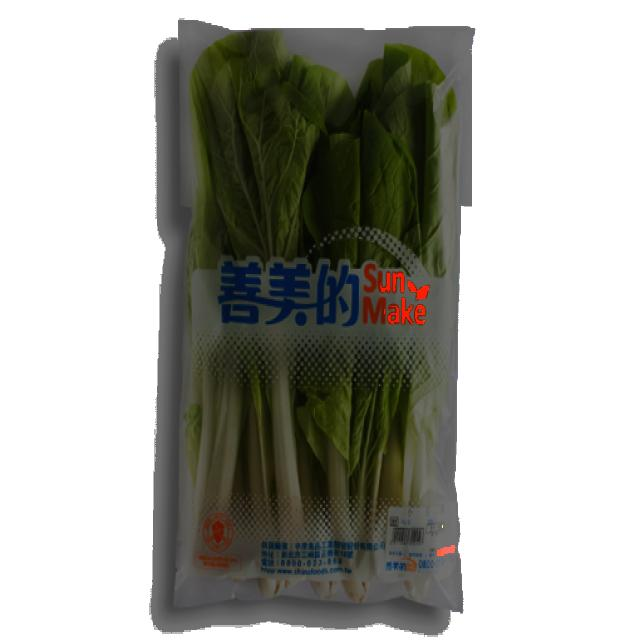chinese_cabbage: (192, 45, 448, 578)
